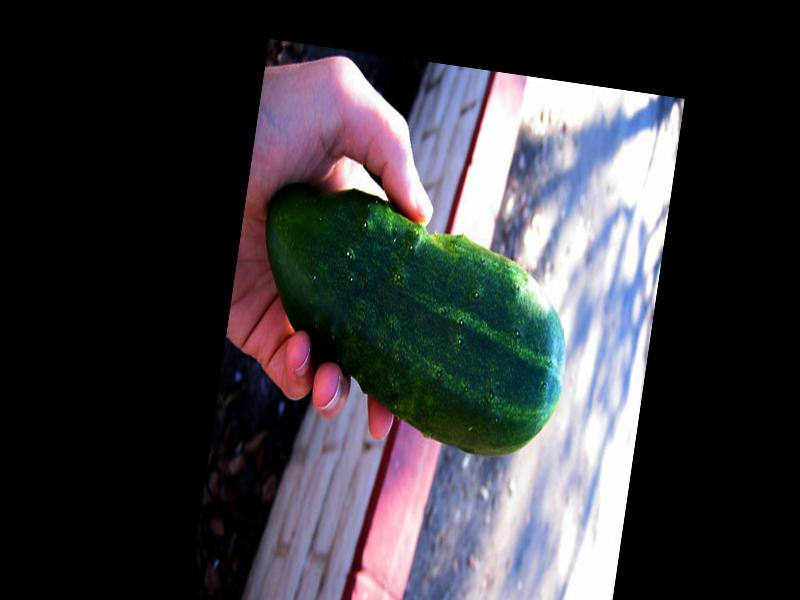Cucumber: (238, 180, 583, 467)
